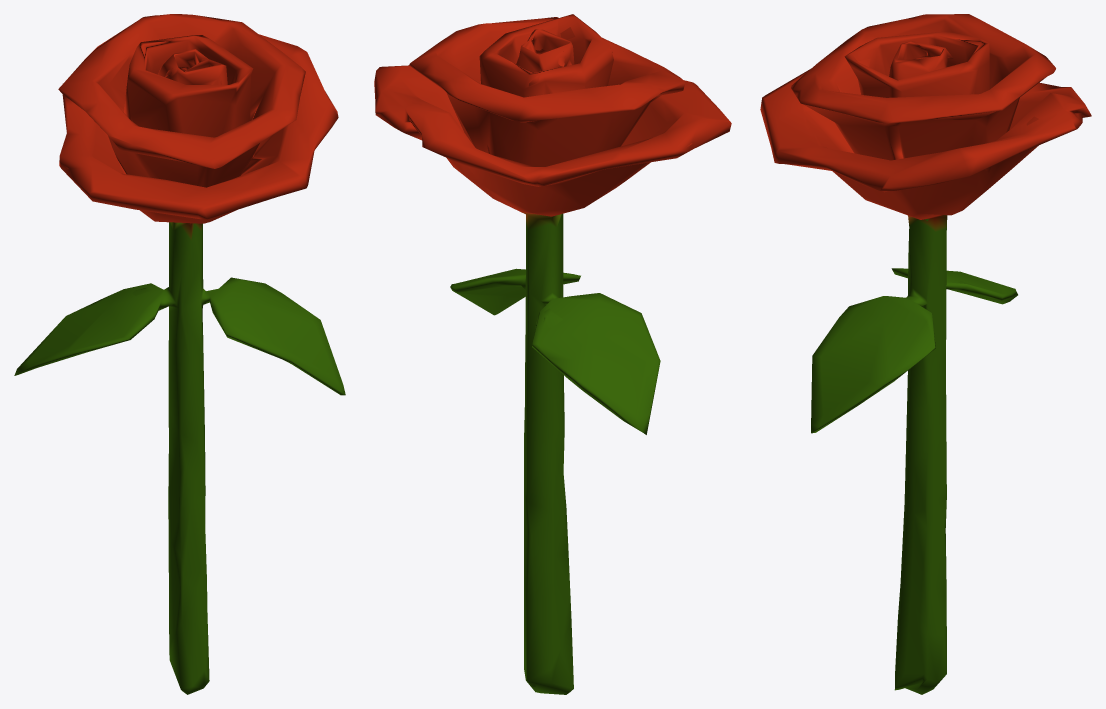
File: gen3d-rose-lod0.glb
The picture shows the model from 3 angles, left to right: view 1: azimuth 30°, elevation 25°; view 2: azimuth 150°, elevation 25°; view 3: azimuth 270°, elevation 25°; orthographic projection. The views are drawn at different scales.
Parts seen in each view (by area): view 1: part_0; view 2: part_0; view 3: part_0.
Boxes of the visible parts, bbox=[...] form: part_0: bbox=[14, 14, 345, 694]; part_0: bbox=[374, 14, 731, 694]; part_0: bbox=[760, 14, 1091, 694].
Size of the model in its own units: 0.4665 by 0.9979 by 0.4631.
